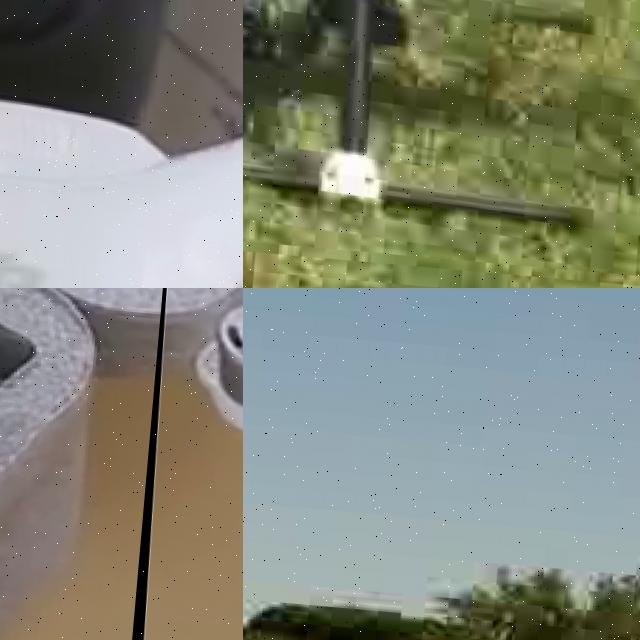0: (243, 0, 640, 285)
drone: (0, 0, 243, 288), (126, 288, 243, 640)
